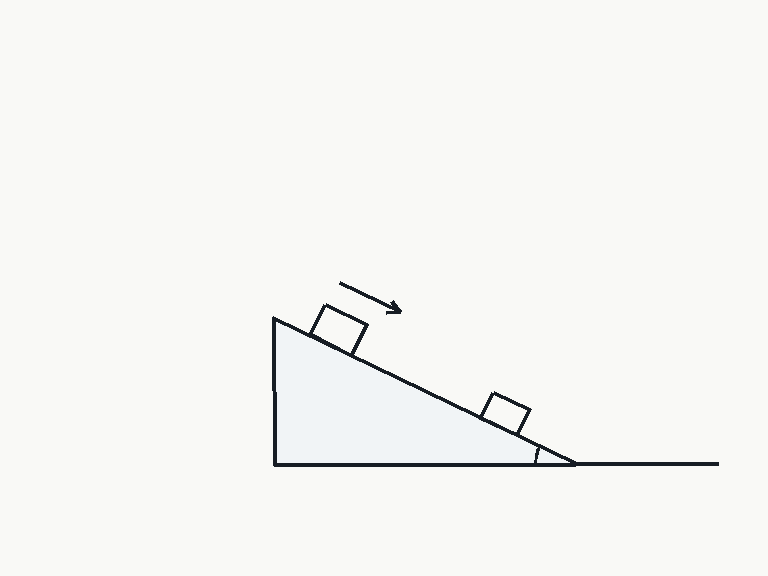block: (308, 302, 368, 357), (479, 390, 531, 437)
ramp: (272, 315, 577, 466)
